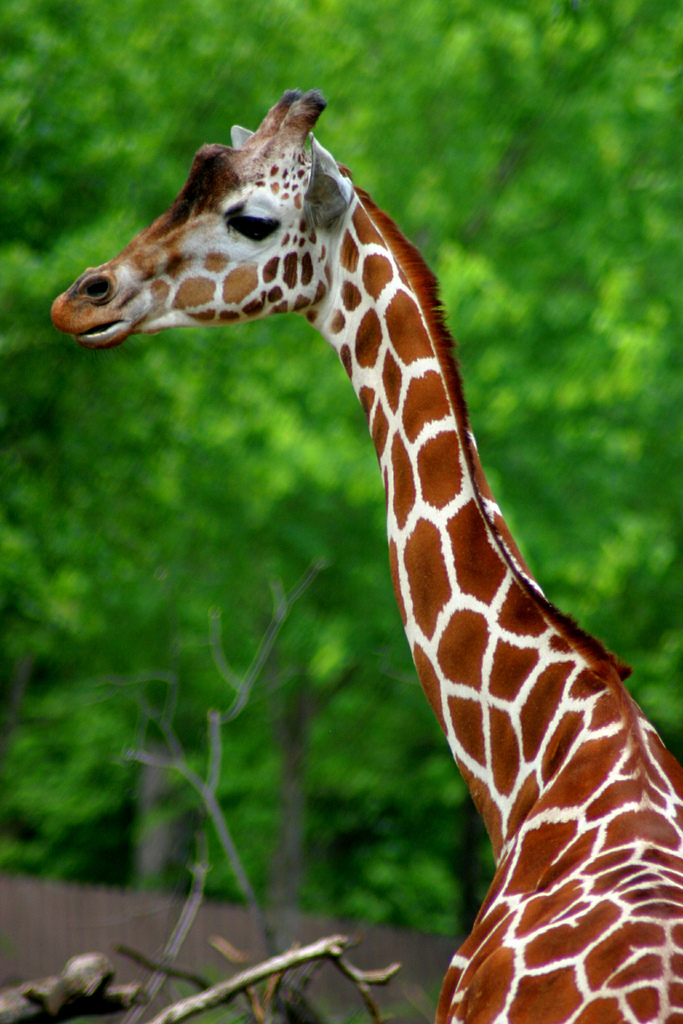giraffe: (79, 91, 655, 963)
